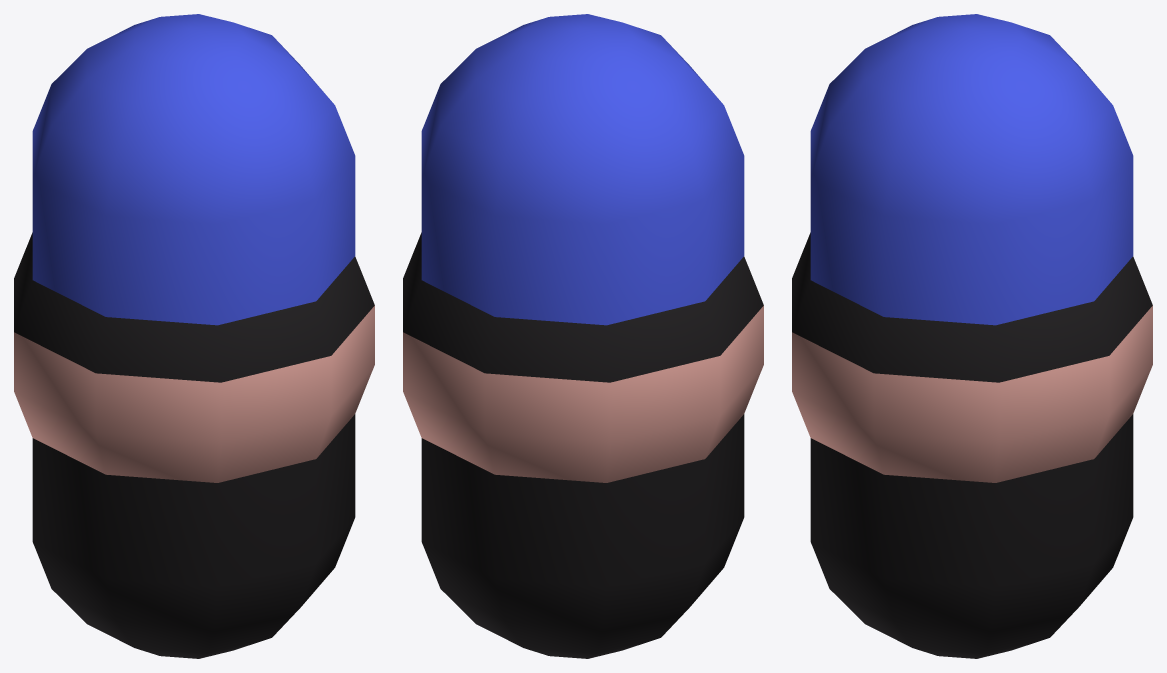
The model's file is character2.glb.
3 renders of one model, left to right at view 1: azimuth 30°, elevation 25°; view 2: azimuth 150°, elevation 25°; view 3: azimuth 270°, elevation 25°, orthographic.
Visible parts, largest first — view 1: body, head; view 2: body, head; view 3: body, head.
Part boxes in pixels (left/top/right/bottom): body: left=32, top=14, right=355, bottom=658; head: left=14, top=232, right=374, bottom=482; body: left=421, top=14, right=744, bottom=658; head: left=403, top=232, right=763, bottom=482; body: left=810, top=14, right=1133, bottom=658; head: left=792, top=232, right=1152, bottom=482.
Bounding box in the file's own units: 1.65 × 3.06 × 1.63.
